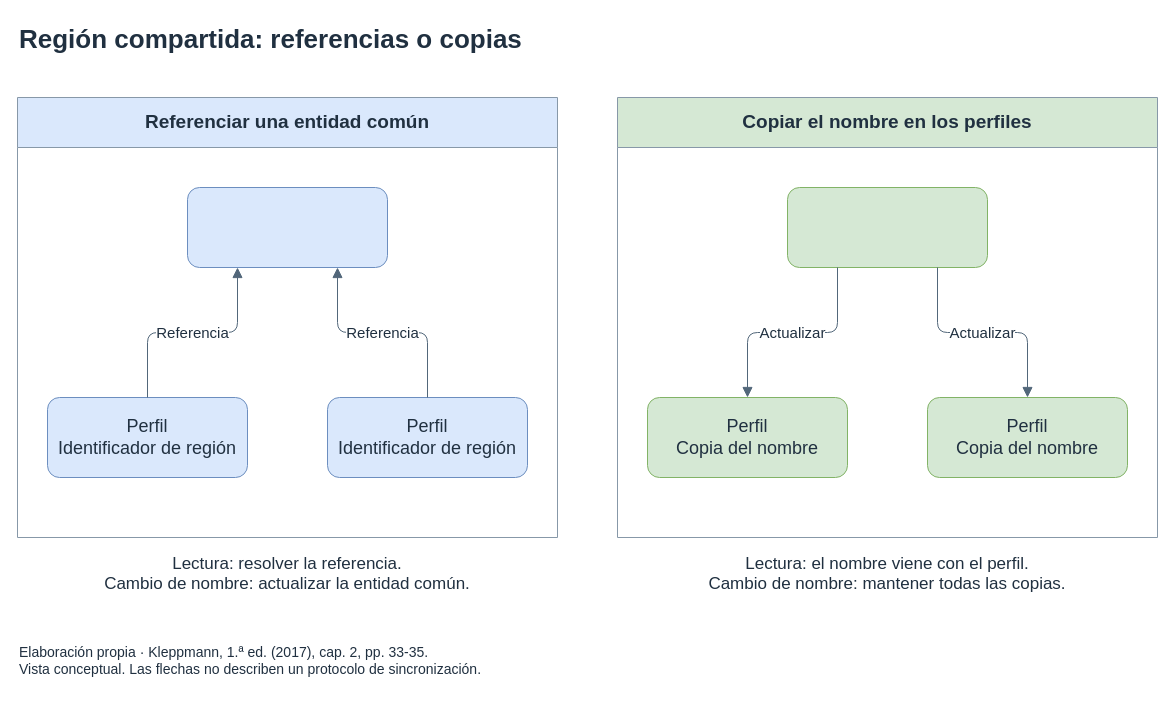
Some shapes in this 1175 by 714 pixel diagram are drawn without their labels. The shapes that lost their labels are listed below. From the top down, each one's centre as x and y in pixels, then its label:
the point at 287,227: Región Nombre almacenado aquí
the point at 887,227: Cambio del nombre de la región
